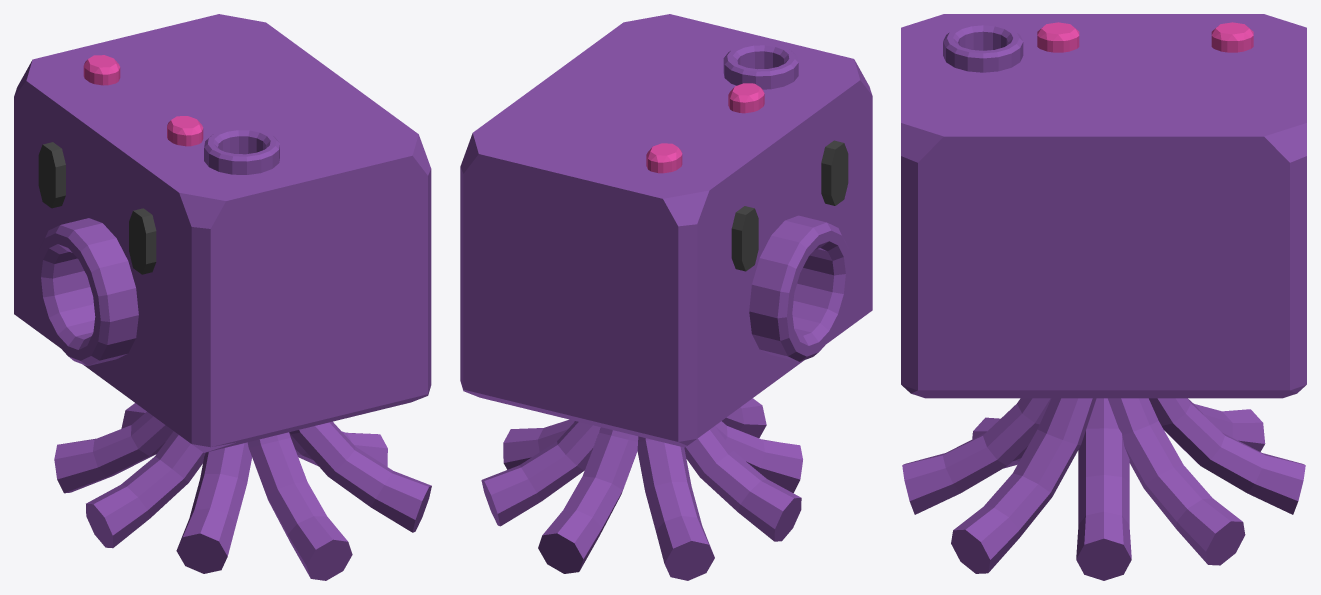
Rendered from OctopusBody.fbx.
3 views of the same model, side by side, from view 1: azimuth 30°, elevation 25°; view 2: azimuth 150°, elevation 25°; view 3: azimuth 270°, elevation 25° (orthographic). The views are drawn at different scales.
Visible parts, largest first — view 1: OctopusBody; view 2: OctopusBody; view 3: OctopusBody.
Boxes of the visible parts, box(x1,y1,x2,y2) form: OctopusBody: box(14, 14, 431, 580); OctopusBody: box(460, 14, 872, 580); OctopusBody: box(901, 14, 1306, 580).
Bounding box in the file's own units: 587 × 770 × 631.
